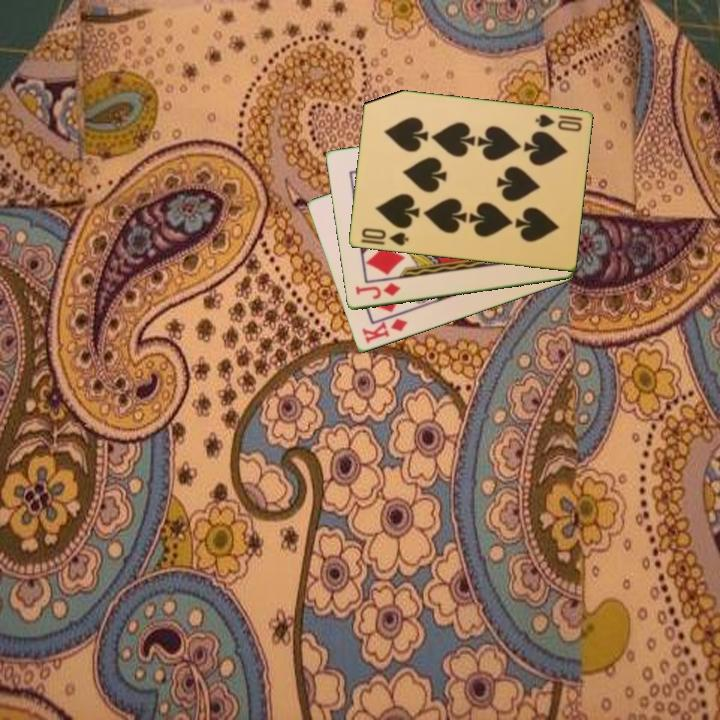10s: (358, 225, 411, 249), (532, 111, 585, 135)
Jd: (352, 279, 403, 302)
Kd: (358, 315, 410, 346)
